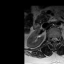CCS_normal: (53, 35, 55, 44)
LFS_normal: (57, 35, 59, 43)
LLS_normal: (55, 35, 57, 43)
RFS_stenosis: (49, 35, 51, 42)
RLS_normal: (51, 35, 53, 43)
